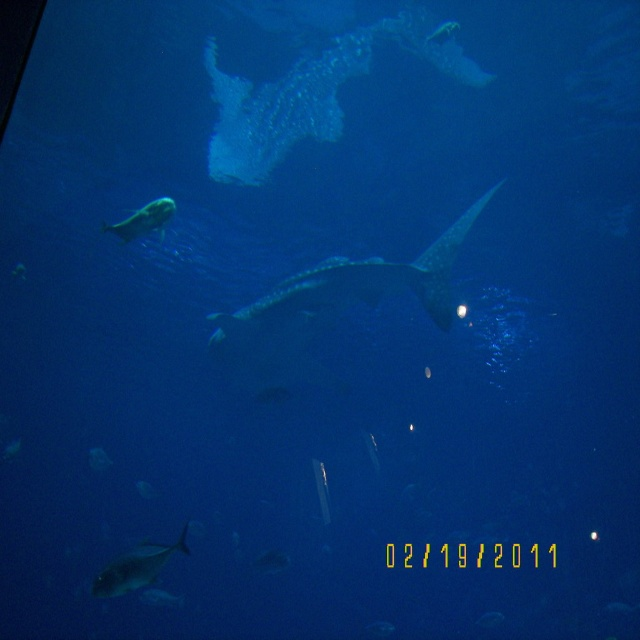Fish: (208, 180, 508, 345), (85, 525, 191, 598), (100, 187, 180, 254), (255, 553, 294, 579), (88, 449, 121, 475), (136, 475, 160, 502), (0, 439, 20, 461), (259, 385, 282, 400), (14, 267, 22, 289)
